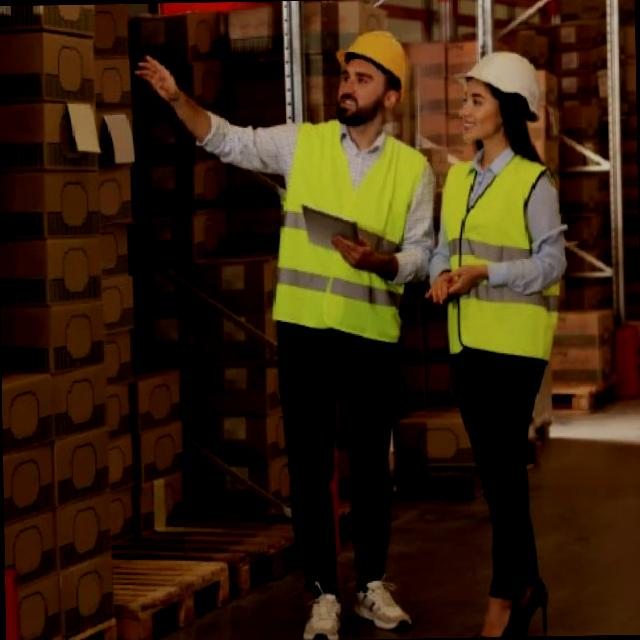boots: (351, 570, 424, 640), (284, 573, 347, 640)
helmet: (449, 39, 556, 114), (333, 20, 414, 96)
no-boots: (438, 476, 562, 638)
no-gloves: (130, 44, 244, 170), (432, 230, 500, 332), (324, 216, 412, 282)
no-goggles: (455, 80, 518, 118), (338, 61, 384, 88)
person: (122, 15, 436, 640), (428, 20, 614, 638)
vest: (282, 111, 427, 355), (440, 137, 562, 376)
